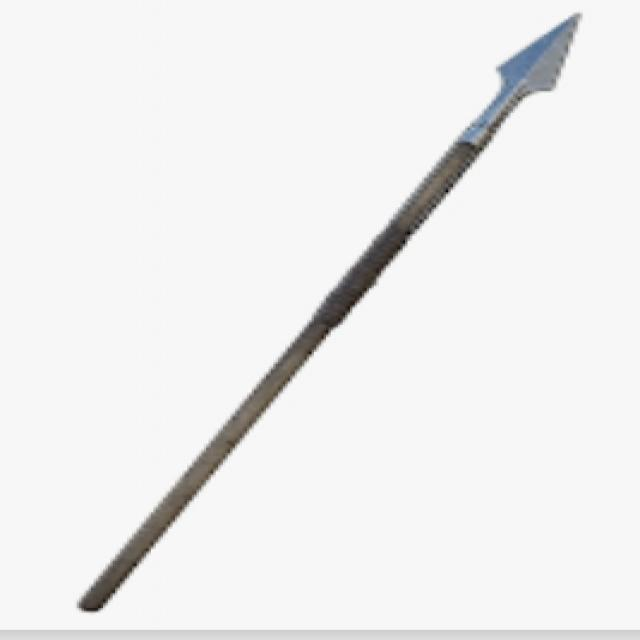spear: (72, 10, 618, 621)
